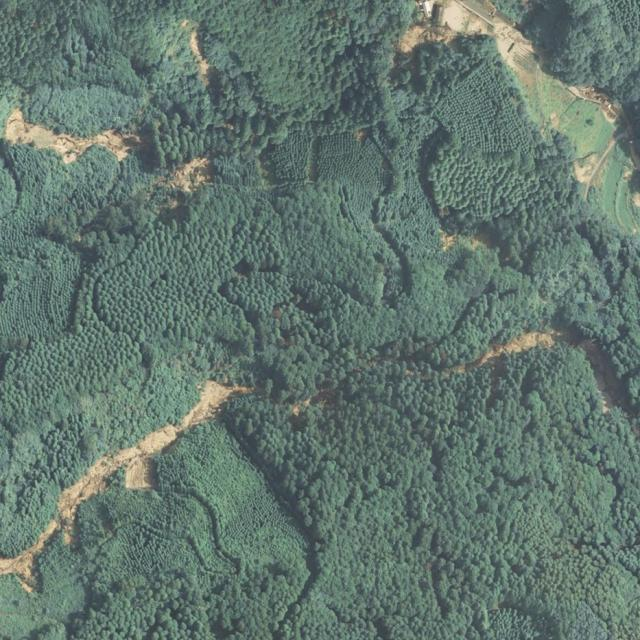landslide: (0, 381, 251, 594), (3, 108, 140, 163), (472, 331, 562, 367), (169, 158, 209, 192), (401, 26, 429, 50)
